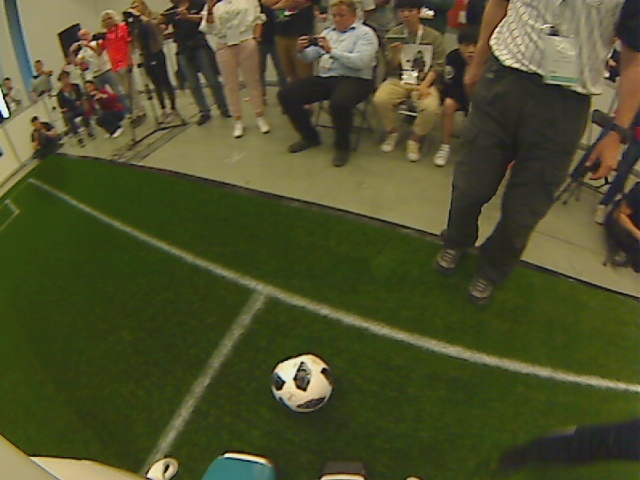ball: (270, 352, 333, 413)
